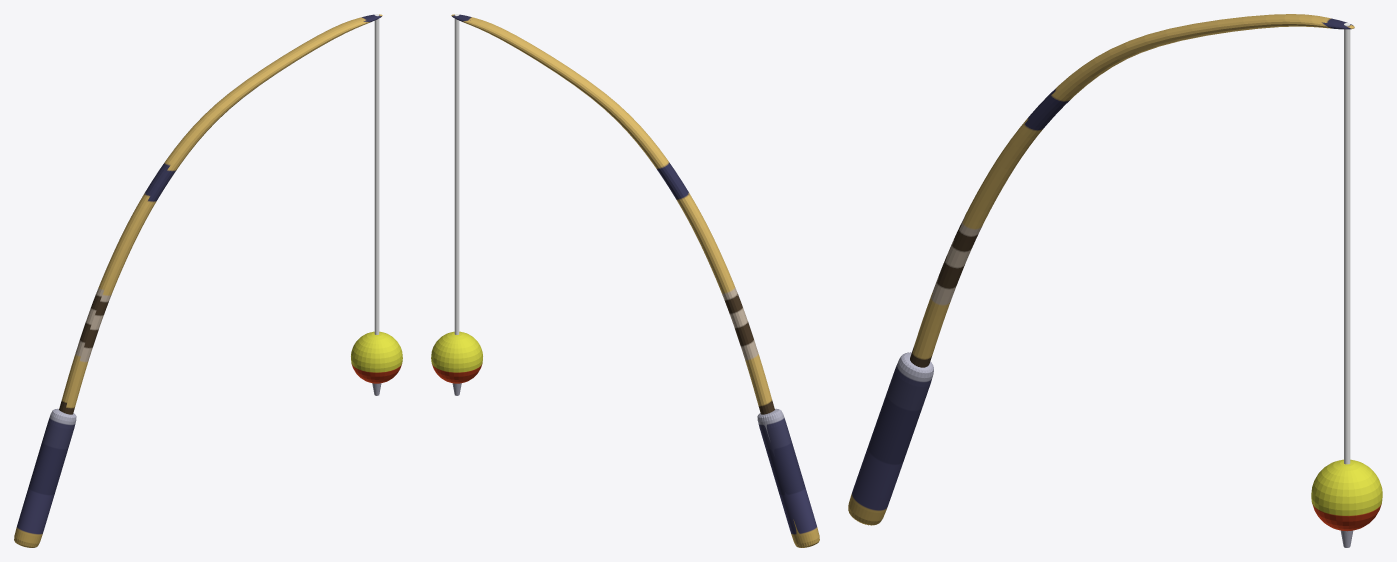
File: Pesca.obj
3 views of the same model, side by side, from view 1: azimuth 30°, elevation 25°; view 2: azimuth 150°, elevation 25°; view 3: azimuth 330°, elevation 25° (orthographic). The views are drawn at different scales.
Visible parts, largest first — view 1: Cube_Cube.001, Cylinder, Sphere, Cylinder.001; view 2: Cube_Cube.001, Cylinder, Sphere, Cylinder.001; view 3: Cube_Cube.001, Cylinder, Sphere, Cylinder.001.
Boxes of the visible parts, <box> form: Cube_Cube.001: <box>59,14,382,414</box>; Cylinder: <box>14,408,76,547</box>; Sphere: <box>351,331,402,395</box>; Cylinder.001: <box>374,14,379,334</box>; Cube_Cube.001: <box>451,14,774,414</box>; Cylinder: <box>757,408,819,547</box>; Sphere: <box>431,331,482,395</box>; Cylinder.001: <box>454,14,459,334</box>; Cube_Cube.001: <box>910,14,1354,367</box>; Cylinder: <box>848,352,933,525</box>; Sphere: <box>1311,459,1382,547</box>; Cylinder.001: <box>1344,23,1350,464</box>.
Size of the model in its own units: 3.82 by 4.25 by 0.4501.
